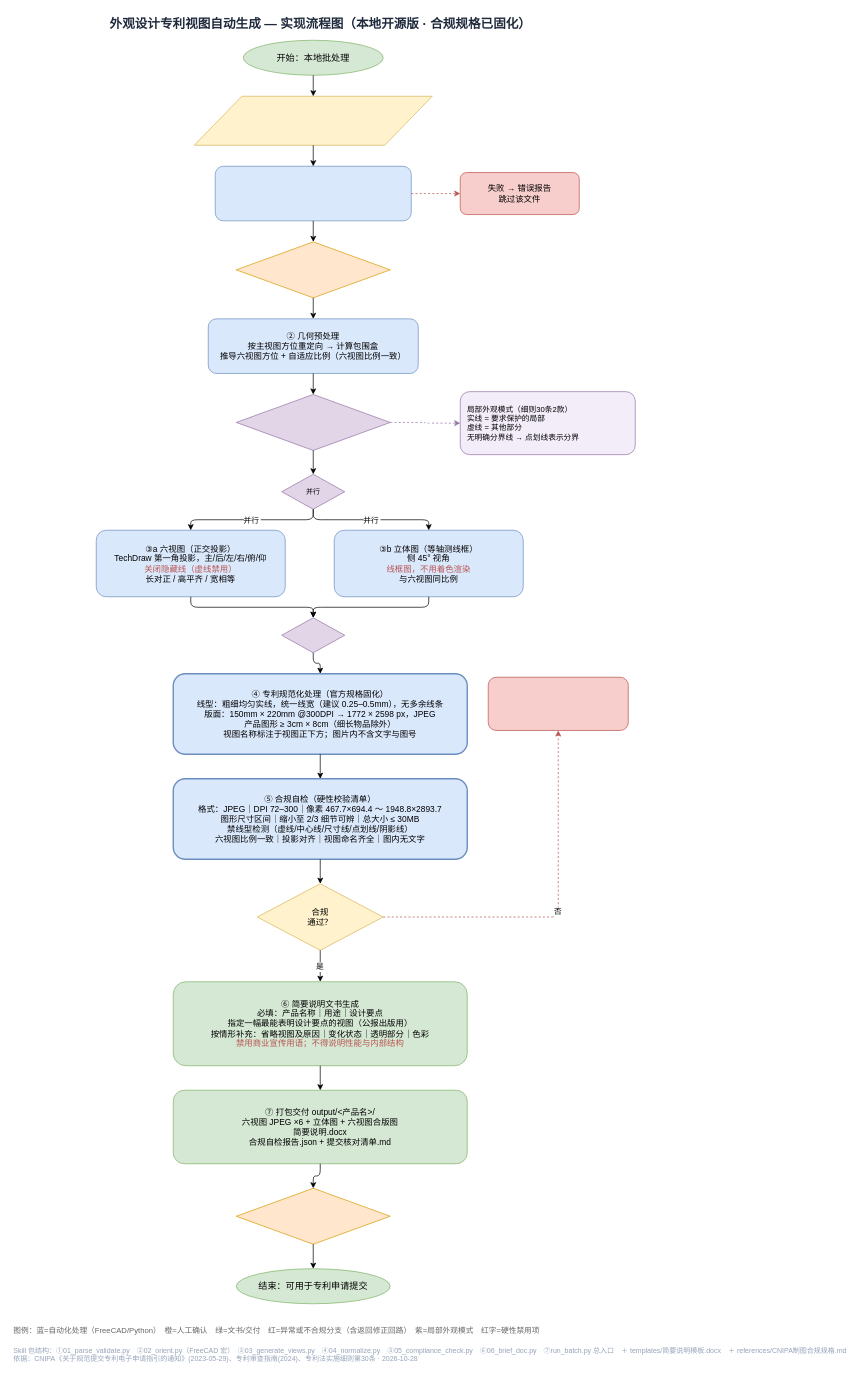
The diagram is 858 pixels wide and 1389 high, and some of its shapes have lost their labels. The shapes that lost their labels are listed below. From the top down, each one's centre as x and y in pixels, then its label:
pixel 313 120: 输入准备 STEP/STP + config（产品名称/用途/主视图方位/ 整体 or 局部外观 / 省略视图及原因）
pixel 313 193: ① 输入解析与校验 STEP → FreeCAD Part 导入 破面/非流形检查 → 警告不中断
pixel 313 269: 人工确认点 ① 核对主视图方位
pixel 313 422: 出图模式 整体 / 局部外观
pixel 558 703: 不合规 → 返回修正 自动重出图（换比例/线宽） 仍不合规则转人工复核
pixel 313 1216: 人工确认点 ② 按提交核对清单复核
